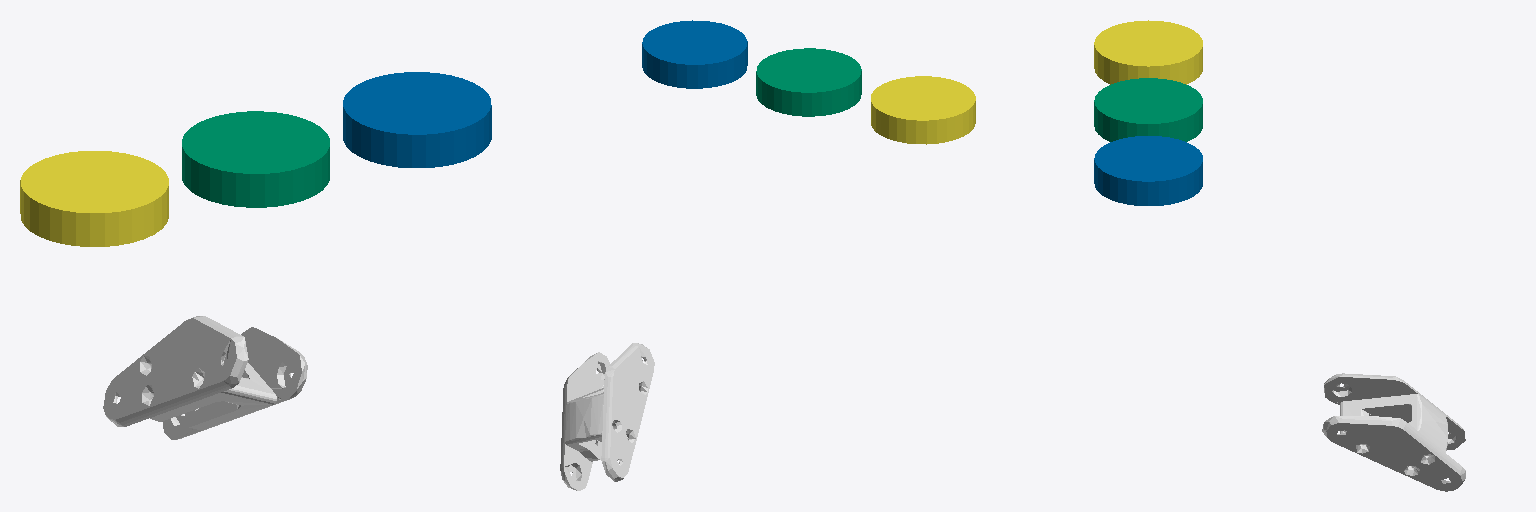
robot.urdf — avatar_gripper_3f_model:
<?xml version="1.0" ?>
<!-- =================================================================================== -->
<!-- |    This document was autogenerated by xacro from [local-path]/avatar_ws/src/avatar_simulation/avatar_gripper_description/urdf/avatar_gripper_3f_example.xacro | -->
<!-- |    EDITING THIS FILE BY HAND IS NOT RECOMMENDED                                 | -->
<!-- =================================================================================== -->
<robot name="avatar_gripper_3f_model">
  <link name="right_thumb_base">
    <inertial>
      <mass value="0.5"/>
      <inertia ixx="4E-5" ixy="0.0" ixz="0.0" iyy="4E-5" iyz="0.0" izz="4E-5"/>
    </inertial>
    <visual>
      <origin rpy="0 0 0" xyz="0 0 0"/>
      <geometry>
        <mesh filename="package://avatar_gripper_description/meshes/right/thumb_base_extra.STL"/>
      </geometry>
      <material name="">
        <color rgba="0.9 0.9 0.9 1"/>
      </material>
    </visual>
    <collision>
      <origin rpy="0 0 0" xyz="0 0 0"/>
      <geometry>
        <mesh filename="package://avatar_gripper_description/meshes/right/thumb_base_extra.STL"/>
      </geometry>
    </collision>
  </link>
  <link name="right_thumb_knuckle">
    <inertial>
      <mass value="0.5"/>
      <inertia ixx="4E-5" ixy="0.0" ixz="0.0" iyy="4E-5" iyz="0.0" izz="4E-5"/>
    </inertial>
    <visual>
      <origin rpy="0 0 0" xyz="0 0 0"/>
      <geometry>
        <mesh filename="package://avatar_gripper_description/meshes/right/thumb_knuckle.STL"/>
      </geometry>
      <material name="">
        <color rgba="0.9 0.9 0.9 1"/>
      </material>
    </visual>
    <collision>
      <origin rpy="0 0 0" xyz="0 0 0"/>
      <geometry>
        <mesh filename="package://avatar_gripper_description/meshes/right/thumb_knuckle.STL"/>
      </geometry>
    </collision>
  </link>
  <joint name="right_thumb_knuckle_joint" type="revolute">
    <origin rpy="0 2.75 0" xyz="0 0 0"/>
    <parent link="right_thumb_base"/>
    <child link="right_thumb_knuckle"/>
    <axis xyz="0 1 0"/>
    <limit effort="1000" lower="-1.0" upper="0.4" velocity="2.0"/>
    <mimic joint="right_thumb_flex_motor_joint" multiplier="0.28" offset="0"/>
  </joint>
  <link name="right_thumb_finger">
    <inertial>
      <mass value="0.5"/>
      <inertia ixx="4E-5" ixy="0.0" ixz="0.0" iyy="4E-5" iyz="0.0" izz="4E-5"/>
    </inertial>
    <visual>
      <origin rpy="0 0 0" xyz="0 0 0"/>
      <geometry>
        <mesh filename="package://avatar_gripper_description/meshes/right/thumb_fingertip.STL"/>
      </geometry>
      <material name="">
        <color rgba="0.9 0.9 0.9 1"/>
      </material>
    </visual>
    <collision>
      <origin rpy="0 0 0" xyz="0 0 0"/>
      <geometry>
        <mesh filename="package://avatar_gripper_description/meshes/right/thumb_fingertip.STL"/>
      </geometry>
    </collision>
  </link>
  <joint name="right_thumb_finger_joint" type="revolute">
    <origin rpy="0 0.57 0" xyz="0.04568 0 0.01106"/>
    <parent link="right_thumb_knuckle"/>
    <child link="right_thumb_finger"/>
    <axis xyz="0 1 0"/>
    <limit effort="1000" lower="-0.8" upper="0" velocity="2.0"/>
    <mimic joint="right_thumb_flex_motor_joint" multiplier="0.24" offset="0"/>
  </joint>
  <link name="right_thumb_swivel_link">
    <inertial>
      <mass value="0.1"/>
      <inertia ixx="4E-5" ixy="0.0" ixz="0.0" iyy="4E-5" iyz="0.0" izz="4E-5"/>
    </inertial>
    <visual>
      <origin rpy="0 0 0" xyz="0 0 0"/>
      <geometry>
        <mesh filename="package://avatar_gripper_description/meshes/right/thumb_swivel_link.STL"/>
      </geometry>
      <material name="">
        <color rgba="0.9 0.9 0.9 1"/>
      </material>
    </visual>
    <collision>
      <origin rpy="0 0 0" xyz="0 0 0"/>
      <geometry>
        <mesh filename="package://avatar_gripper_description/meshes/right/thumb_swivel_link.STL"/>
      </geometry>
    </collision>
  </link>
  <joint name="right_thumb_swivel_joint" type="revolute">
    <origin rpy="0 0 0" xyz="0 0 0.0173"/>
    <parent link="right_index_base_connector"/>
    <child link="right_thumb_swivel_link"/>
    <axis xyz="0 0 1"/>
    <limit effort="1000" lower="0" upper="1.7" velocity="2.0"/>
    <mimic joint="right_thumb_swivel_motor_joint" multiplier="-0.6075" offset="0.43"/>
  </joint>
  <joint name="right_thumb_base_swivel_joint" type="fixed">
    <origin rpy="0 0 0" xyz="-0.03742 0 0.05089"/>
    <parent link="right_thumb_swivel_link"/>
    <child link="right_thumb_base"/>
  </joint>
  <link name="right_index_base_connector">
    <inertial>
      <mass value="0.02"/>
      <inertia ixx="4E-5" ixy="0.0" ixz="0.0" iyy="4E-5" iyz="0.0" izz="4E-5"/>
    </inertial>
    <visual>
      <origin rpy="0 0 0" xyz="0 0 0"/>
      <geometry>
        <mesh filename="package://avatar_gripper_description/meshes/right/index_base_connector.STL"/>
      </geometry>
      <material name="">
        <color rgba="0.9 0.9 0.9 1"/>
      </material>
    </visual>
    <collision>
      <origin rpy="0 0 0" xyz="0 0 0"/>
      <geometry>
        <mesh filename="package://avatar_gripper_description/meshes/right/index_base_connector.STL"/>
      </geometry>
      <material name="">
        <color rgba="0.9 0.9 0.9 1"/>
      </material>
    </collision>
  </link>
  <link name="right_index_knuckle">
    <inertial>
      <mass value="0.5"/>
      <inertia ixx="4E-5" ixy="0.0" ixz="0.0" iyy="4E-5" iyz="0.0" izz="4E-5"/>
    </inertial>
    <visual>
      <origin rpy="0 0 0" xyz="0 0 0"/>
      <geometry>
        <mesh filename="package://avatar_gripper_description/meshes/right/index_knuckle.STL"/>
      </geometry>
      <material name="">
        <color rgba="0.9 0.9 0.9 1"/>
      </material>
    </visual>
    <collision>
      <origin rpy="0 0 0" xyz="0 0 0"/>
      <geometry>
        <mesh filename="package://avatar_gripper_description/meshes/right/index_knuckle.STL"/>
      </geometry>
    </collision>
  </link>
  <joint name="right_index_knuckle_joint" type="revolute">
    <origin rpy="1.94428593 1.07478656 1.98996937" xyz="-0.021564878 0.008545 -0.0024358"/>
    <parent link="right_index_base_connector"/>
    <child link="right_index_knuckle"/>
    <axis xyz="0 0 1"/>
    <limit effort="1000" lower="-0.8" upper="0" velocity="2.0"/>
    <mimic joint="right_index_flex_motor_joint" multiplier="0.4016" offset="0"/>
  </joint>
  <link name="right_index_fingertip">
    <inertial>
      <mass value="0.5"/>
      <inertia ixx="4E-5" ixy="0.0" ixz="0.0" iyy="4E-5" iyz="0.0" izz="4E-5"/>
    </inertial>
    <visual>
      <origin rpy="0 0 0" xyz="0 0 0"/>
      <geometry>
        <mesh filename="package://avatar_gripper_description/meshes/right/index_fingertip.STL"/>
      </geometry>
      <material name="">
        <color rgba="0.9 0.9 0.9 1"/>
      </material>
    </visual>
    <collision>
      <origin rpy="0 0 0" xyz="0 0 0"/>
      <geometry>
        <mesh filename="package://avatar_gripper_description/meshes/right/index_fingertip.STL"/>
      </geometry>
    </collision>
  </link>
  <joint name="right_index_fingertip_joint" type="revolute">
    <origin rpy="0 0 -0.35" xyz="0.0353829 -0.02780 0"/>
    <parent link="right_index_knuckle"/>
    <child link="right_index_fingertip"/>
    <axis xyz="0 0 1"/>
    <limit effort="1000" lower="-0.8" upper="0" velocity="2.0"/>
    <mimic joint="right_index_flex_motor_joint" multiplier="0.4" offset="0"/>
  </joint>
  <link name="right_middle_knuckle">
    <inertial>
      <mass value="0.5"/>
      <inertia ixx="4E-5" ixy="0.0" ixz="0.0" iyy="4E-5" iyz="0.0" izz="4E-5"/>
    </inertial>
    <visual>
      <origin rpy="0 0 0" xyz="0 0 0"/>
      <geometry>
        <mesh filename="package://avatar_gripper_description/meshes/right/index_knuckle.STL"/>
      </geometry>
      <material name="">
        <color rgba="0.9 0.9 0.9 1"/>
      </material>
    </visual>
    <collision>
      <origin rpy="0 0 0" xyz="0 0 0"/>
      <geometry>
        <mesh filename="package://avatar_gripper_description/meshes/right/index_knuckle.STL"/>
      </geometry>
    </collision>
  </link>
  <joint name="right_middle_knuckle_joint" type="revolute">
    <origin rpy="1.19730672 1.07478656 1.15162329" xyz="0.02156 0.008545 -0.0024358"/>
    <parent link="right_index_base_connector"/>
    <child link="right_middle_knuckle"/>
    <axis xyz="0 0 1"/>
    <limit effort="1000" lower="-0.8" upper="0" velocity="2.0"/>
    <mimic joint="right_index_knuckle_joint" multiplier="1" offset="0"/>
  </joint>
  <link name="right_middle_fingertip">
    <inertial>
      <mass value="0.5"/>
      <inertia ixx="4E-5" ixy="0.0" ixz="0.0" iyy="4E-5" iyz="0.0" izz="4E-5"/>
    </inertial>
    <visual>
      <origin rpy="0 0 0" xyz="0 0 0"/>
      <geometry>
        <mesh filename="package://avatar_gripper_description/meshes/right/index_fingertip.STL"/>
      </geometry>
      <material name="">
        <color rgba="0.9 0.9 0.9 1"/>
      </material>
    </visual>
    <collision>
      <origin rpy="0 0 0" xyz="0 0 0"/>
      <geometry>
        <mesh filename="package://avatar_gripper_description/meshes/right/index_fingertip.STL"/>
      </geometry>
    </collision>
  </link>
  <joint name="right_middle_fingertip_joint" type="revolute">
    <origin rpy="0 0 -0.35" xyz="0.0353829 -0.02780 0"/>
    <parent link="right_middle_knuckle"/>
    <child link="right_middle_fingertip"/>
    <axis xyz="0 0 1"/>
    <limit effort="1000" lower="-0.8" upper="0" velocity="2.0"/>
    <mimic joint="right_index_fingertip_joint" multiplier="1" offset="0"/>
  </joint>
  <link name="right_gripper_base">
    <inertial>
      <mass value="2.0"/>
      <inertia ixx="7.11E-3" ixy="0.0" ixz="0.0" iyy="7.11E-3" iyz="0.0" izz="7.11E-3"/>
    </inertial>
    <visual>
      <origin rpy="0 0 0" xyz="0 0 0"/>
      <geometry>
        <mesh filename="package://avatar_gripper_description/meshes/right/gripper_base.STL"/>
      </geometry>
      <material name="">
        <color rgba="0.9 0.9 0.7 1"/>
      </material>
    </visual>
    <collision>
      <origin rpy="0 0 0" xyz="0 0 -0.03"/>
      <geometry>
        <box size="0.1 0.1 0.06"/>
      </geometry>
    </collision>
  </link>
  <joint name="right_gripper_base_joint" type="fixed">
    <origin rpy="1.57 0 0" xyz="0.00736 0.139 -0.066017"/>
    <parent link="right_gripper_base"/>
    <child link="right_index_base_connector"/>
  </joint>
  <link name="right_thumb_flex_motor">
    <inertial>
      <mass value="0.25"/>
      <inertia ixx="1.463E-04" ixy="0" ixz="0" iyy="1.463E-04" iyz="0" izz="1.463E-04"/>
    </inertial>
    <visual>
      <origin rpy="0 0 0" xyz="0 0 0"/>
      <geometry>
        <cylinder length="0.01" radius="0.02"/>
      </geometry>
    </visual>
  </link>
  <joint name="right_thumb_flex_motor_joint" type="revolute">
    <origin rpy="0 0 0" xyz="-0.05 0.0 0.0"/>
    <parent link="right_gripper_base"/>
    <child link="right_thumb_flex_motor"/>
    <axis xyz="0 0 1"/>
    <limit effort="1000" lower="-2.3" upper="-0.08" velocity="2.0"/>
  </joint>
  <link name="right_thumb_swivel_motor">
    <inertial>
      <mass value="0.25"/>
      <inertia ixx="1.463E-04" ixy="0" ixz="0" iyy="1.463E-04" iyz="0" izz="1.463E-04"/>
    </inertial>
    <visual>
      <origin rpy="0 0 0" xyz="0 0 0"/>
      <geometry>
        <cylinder length="0.01" radius="0.02"/>
      </geometry>
    </visual>
  </link>
  <joint name="right_thumb_swivel_motor_joint" type="revolute">
    <origin rpy="0 0 0" xyz="-0.1 0.0 0.0"/>
    <parent link="right_gripper_base"/>
    <child link="right_thumb_swivel_motor"/>
    <axis xyz="0 0 1"/>
    <limit effort="1000" lower="-2.3" upper="-0.05" velocity="2.0"/>
  </joint>
  <link name="right_index_flex_motor">
    <inertial>
      <mass value="0.25"/>
      <inertia ixx="1.463E-04" ixy="0" ixz="0" iyy="1.463E-04" iyz="0" izz="1.463E-04"/>
    </inertial>
    <visual>
      <origin rpy="0 0 0" xyz="0 0 0"/>
      <geometry>
        <cylinder length="0.01" radius="0.02"/>
      </geometry>
    </visual>
  </link>
  <joint name="right_index_flex_motor_joint" type="revolute">
    <origin rpy="0 0 0" xyz="0.0 0.0 0.0"/>
    <parent link="right_gripper_base"/>
    <child link="right_index_flex_motor"/>
    <axis xyz="0 0 1"/>
    <limit effort="1000" lower="-2.3" upper="-0.08" velocity="2.0"/>
  </joint>
</robot>

--- What the picture shows (computed from the rendered views, not written in the file) ---
The picture shows the robot from 3 angles, left to right: view 1: azimuth 30°, elevation 25°; view 2: azimuth 150°, elevation 25°; view 3: azimuth 270°, elevation 25°; orthographic projection.
Model avatar_gripper_3f_model with 13 links and 12 joints (10 revolute, 2 fixed), rooted at right_gripper_base, posed joints at zero except 3 at the middle of their limits (right_thumb_knuckle_joint = -0.3332, right_thumb_finger_joint = -0.2856, right_thumb_swivel_joint = 1.14, right_index_knuckle_joint = -0.4779, right_index_fingertip_joint = -0.476, right_thumb_flex_motor_joint = -1.19).
Links seen in each view (by area): view 1: right_thumb_knuckle, right_thumb_swivel_motor, right_index_flex_motor, right_thumb_flex_motor; view 2: right_thumb_knuckle, right_thumb_flex_motor, right_index_flex_motor, right_thumb_swivel_motor; view 3: right_thumb_knuckle, right_index_flex_motor, right_thumb_flex_motor, right_thumb_swivel_motor.
Link boxes in pixels (box(x1,y1,x2,y2)): right_thumb_knuckle: box(103, 316, 307, 439); right_thumb_swivel_motor: box(20, 151, 168, 246); right_index_flex_motor: box(343, 72, 491, 167); right_thumb_flex_motor: box(182, 111, 329, 207); right_thumb_knuckle: box(560, 343, 654, 490); right_thumb_flex_motor: box(756, 48, 861, 116); right_index_flex_motor: box(642, 20, 747, 88); right_thumb_swivel_motor: box(871, 76, 975, 144); right_thumb_knuckle: box(1322, 373, 1465, 491); right_index_flex_motor: box(1094, 136, 1202, 205); right_thumb_flex_motor: box(1094, 78, 1202, 141); right_thumb_swivel_motor: box(1094, 20, 1202, 84).
Size in the robot's own frame: 0.14 by 0.1363 by 0.1399 metres.
Meshes: 8 distinct files referenced, 1 mesh visuals loaded (1 binary STL); not drawn: 9 (reference not matched to a file when rendering).